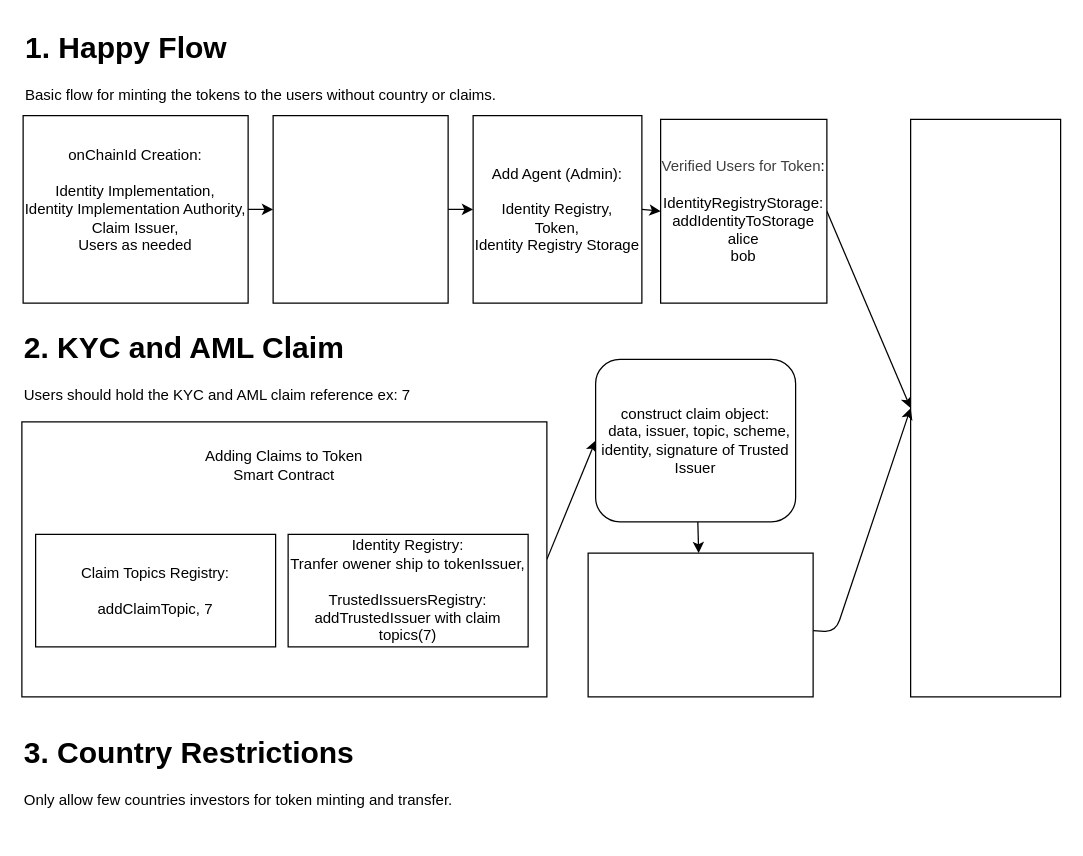
Some shapes in this 1083 by 856 pixel diagram are drawn without their labels. Here are the shapes that lost their labels. From the top down, the centre of each, then its label:
At [360,208]: "Intialize Smart Contracts: Identity Registry, Token, Identity Registry Storage".
At [985,407]: "Mint Tokens: alice bob".
At [700,624]: "addClaim to user onChainId".
